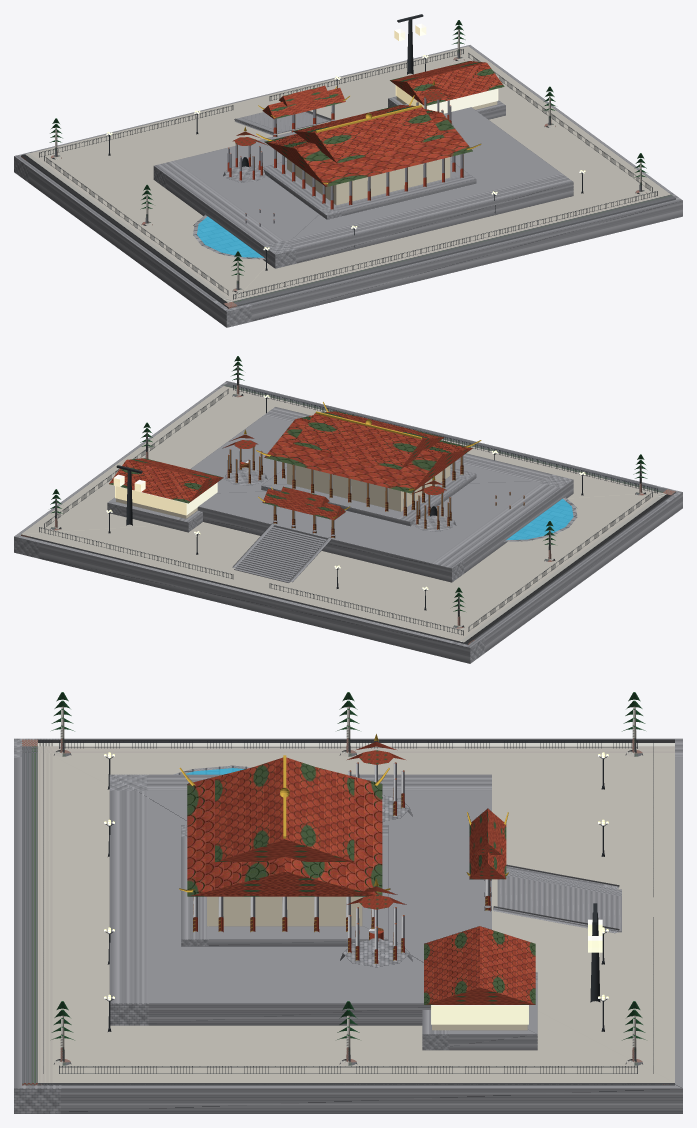
The model's file is ultra_lm_15_thien_vien_truc_lam.glb.
3 views of the same model, one above another, from view 1: azimuth 30°, elevation 25°; view 2: azimuth 150°, elevation 25°; view 3: azimuth 270°, elevation 25° (orthographic). The views are drawn at different scales.
Parts seen in each view (by area): view 1: TrucLam_61GraniteSteps_And_Copernicus_Skirt, TrucLam_Promenade_GraniteCurb_And_WormBrick, TrucLam_Curved_Fishscale_Terracotta_Roofs, TrucLam_GreatBell_Pylon_Balustrades_And_Streetlamps, TrucLam_Sanctuary_And_Terminal_Stucco_Walls, TrucLam_Polished_Lim_Ironwood_Columns_And_Bridge, CableCar_Terminal_And_Gondola_Glass_Blend085, TinhTam_ZenLake_Water_Surface_Blend085, TrucLam_PhungHoang_Pine_And_Zen_Gardens, TrucLam_Gilded_Buddha_And_Dragon_Ridge_Crests; view 2: TrucLam_61GraniteSteps_And_Copernicus_Skirt, TrucLam_Promenade_GraniteCurb_And_WormBrick, TrucLam_Curved_Fishscale_Terracotta_Roofs, TrucLam_GreatBell_Pylon_Balustrades_And_Streetlamps, TrucLam_Sanctuary_And_Terminal_Stucco_Walls, TrucLam_Polished_Lim_Ironwood_Columns_And_Bridge, CableCar_Terminal_And_Gondola_Glass_Blend085, TinhTam_ZenLake_Water_Surface_Blend085, TrucLam_PhungHoang_Pine_And_Zen_Gardens, TrucLam_Gilded_Buddha_And_Dragon_Ridge_Crests; view 3: TrucLam_Promenade_GraniteCurb_And_WormBrick, TrucLam_61GraniteSteps_And_Copernicus_Skirt, TrucLam_Curved_Fishscale_Terracotta_Roofs, TrucLam_GreatBell_Pylon_Balustrades_And_Streetlamps, TrucLam_Sanctuary_And_Terminal_Stucco_Walls, TrucLam_Polished_Lim_Ironwood_Columns_And_Bridge, CableCar_Terminal_And_Gondola_Glass_Blend085, TrucLam_PhungHoang_Pine_And_Zen_Gardens, TrucLam_Gilded_Buddha_And_Dragon_Ridge_Crests.
Boxes of the visible parts, x1,y1,x2,y2 form: TrucLam_61GraniteSteps_And_Copernicus_Skirt: (14, 45, 682, 327); TrucLam_Promenade_GraniteCurb_And_WormBrick: (21, 29, 675, 308); TrucLam_Curved_Fishscale_Terracotta_Roofs: (232, 61, 504, 186); TrucLam_GreatBell_Pylon_Balustrades_And_Streetlamps: (39, 14, 657, 299); TrucLam_Sanctuary_And_Terminal_Stucco_Walls: (287, 92, 497, 205); TrucLam_Polished_Lim_Ironwood_Columns_And_Bridge: (227, 98, 463, 226); CableCar_Terminal_And_Gondola_Glass_Blend085: (394, 23, 498, 113); TinhTam_ZenLake_Water_Surface_Blend085: (197, 216, 263, 257); TrucLam_PhungHoang_Pine_And_Zen_Gardens: (49, 20, 646, 275); TrucLam_Gilded_Buddha_And_Dragon_Ridge_Crests: (244, 80, 481, 184); TrucLam_61GraniteSteps_And_Copernicus_Skirt: (14, 381, 682, 663); TrucLam_Promenade_GraniteCurb_And_WormBrick: (21, 365, 675, 644); TrucLam_Curved_Fishscale_Terracotta_Roofs: (109, 411, 472, 520); TrucLam_GreatBell_Pylon_Balustrades_And_Streetlamps: (39, 385, 657, 635); TrucLam_Sanctuary_And_Terminal_Stucco_Walls: (116, 463, 450, 518); TrucLam_Polished_Lim_Ironwood_Columns_And_Bridge: (227, 447, 524, 537); CableCar_Terminal_And_Gondola_Glass_Blend085: (113, 474, 217, 515); TinhTam_ZenLake_Water_Surface_Blend085: (506, 498, 573, 540); TrucLam_PhungHoang_Pine_And_Zen_Gardens: (50, 356, 647, 611); TrucLam_Gilded_Buddha_And_Dragon_Ridge_Crests: (244, 402, 481, 518); TrucLam_Promenade_GraniteCurb_And_WormBrick: (22, 706, 674, 1085); TrucLam_61GraniteSteps_And_Copernicus_Skirt: (14, 738, 682, 1113); TrucLam_Curved_Fishscale_Terracotta_Roofs: (187, 741, 535, 1004); TrucLam_GreatBell_Pylon_Balustrades_And_Streetlamps: (43, 740, 653, 1073); TrucLam_Sanctuary_And_Terminal_Stucco_Walls: (207, 896, 527, 1030); TrucLam_Polished_Lim_Ironwood_Columns_And_Bridge: (193, 762, 490, 963); CableCar_Terminal_And_Gondola_Glass_Blend085: (431, 919, 602, 1024); TrucLam_PhungHoang_Pine_And_Zen_Gardens: (51, 692, 645, 1040); TrucLam_Gilded_Buddha_And_Dragon_Ridge_Crests: (179, 734, 508, 892).
Size of the model in its own units: 104 by 20.9 by 84.
11 materials, 4 textured.
